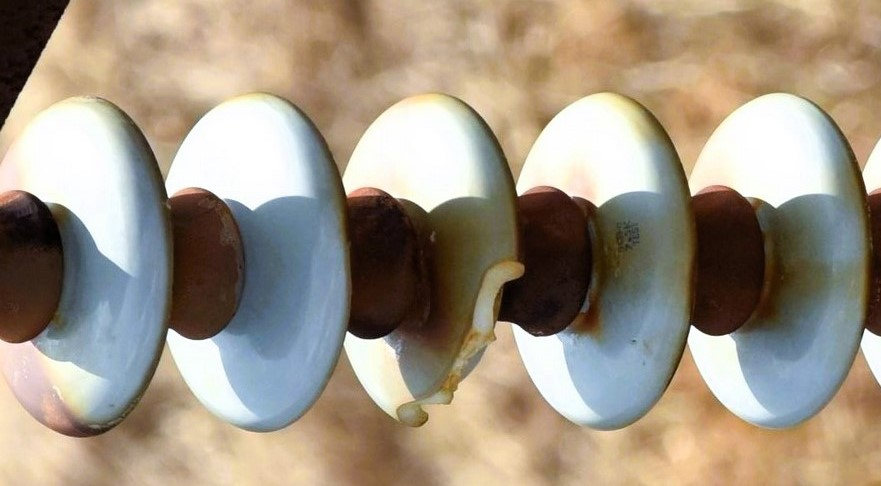insulator breakage: (344, 86, 531, 437)
